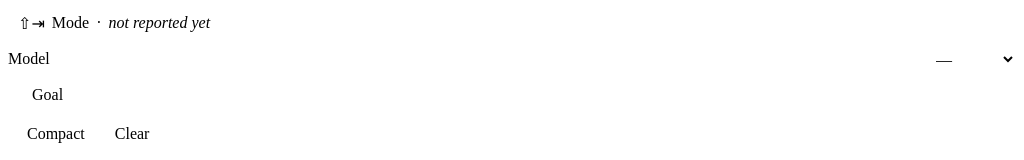
Test: goal toggle › asks for a condition before anything is sent
Click the button with test id "goal-toggle" at (48, 94), box [8, 80, 1016, 110]
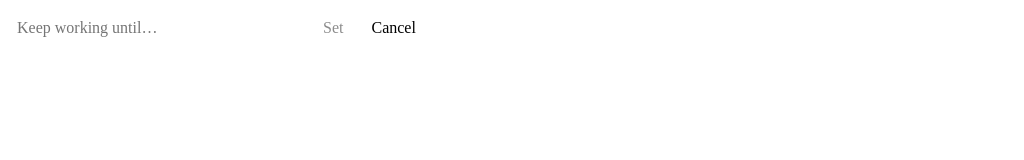
Expected: the field with test id "goal-input" is shown, [8, 8, 306, 48]
